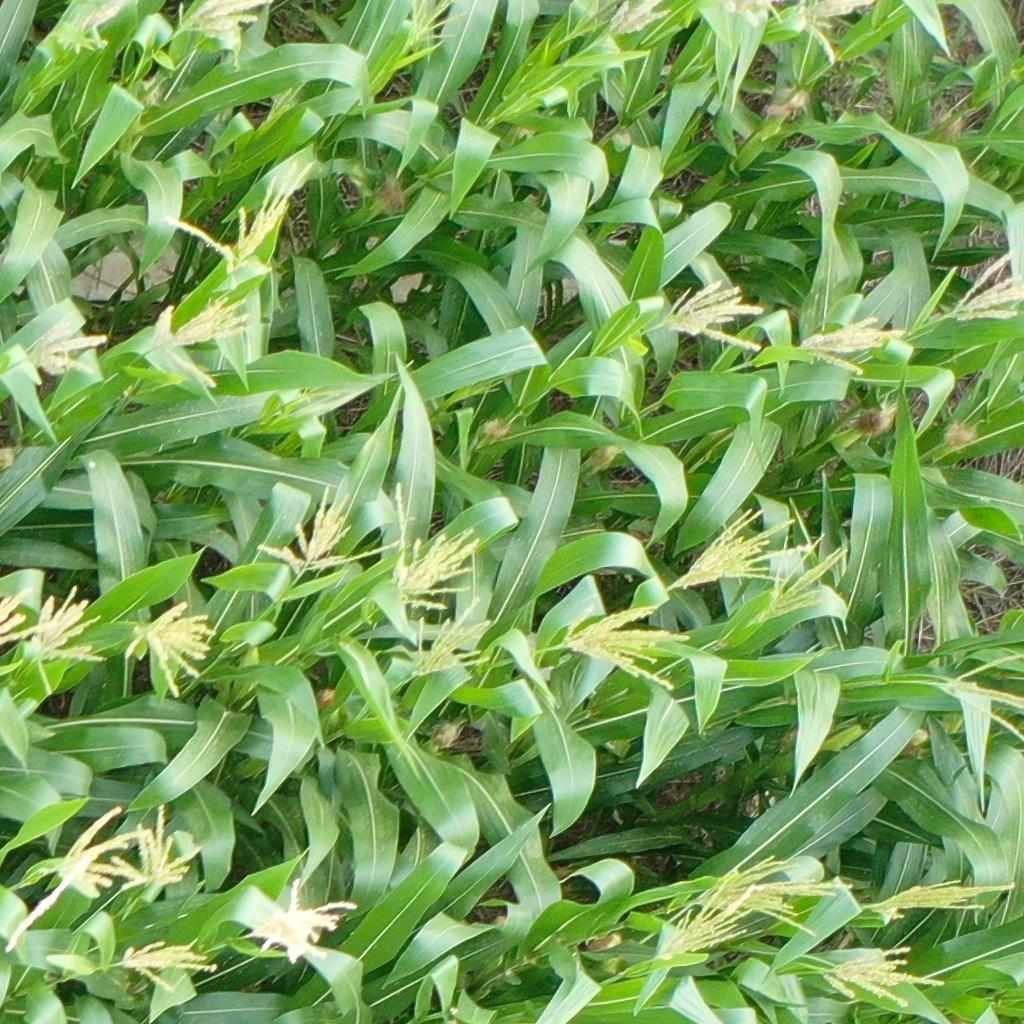Tassel: (7, 803, 152, 953), (160, 159, 318, 276), (687, 856, 854, 938), (254, 487, 400, 575), (661, 507, 813, 591), (561, 601, 691, 691), (391, 484, 480, 614), (149, 295, 258, 389), (251, 878, 359, 966), (750, 532, 848, 627), (125, 601, 218, 701), (653, 281, 771, 357), (817, 944, 945, 1013), (934, 649, 1024, 746), (110, 805, 202, 891), (659, 885, 756, 964), (863, 877, 1017, 923), (26, 586, 111, 668), (412, 595, 493, 681), (795, 315, 907, 374), (26, 309, 111, 379), (947, 248, 1024, 323), (118, 938, 221, 994), (788, 1, 877, 64), (58, 1, 134, 55), (1, 587, 57, 646), (177, 1, 272, 35), (565, 1, 620, 46), (406, 1, 468, 40), (610, 1, 670, 36), (724, 1, 787, 31), (289, 385, 364, 409), (264, 87, 296, 124), (468, 377, 507, 395)
